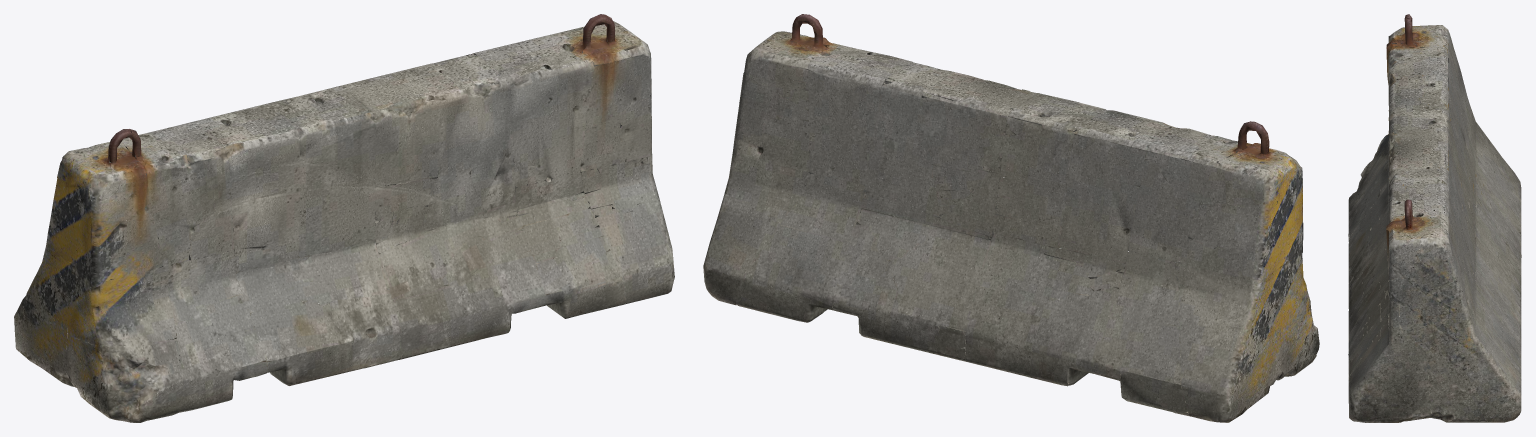
Rendered from prop_barrier.glb.
3 views of the same model, side by side, from view 1: azimuth 30°, elevation 25°; view 2: azimuth 150°, elevation 25°; view 3: azimuth 270°, elevation 25° (orthographic). The views are drawn at different scales.
Parts seen in each view (by area): view 1: prop_barrier; view 2: prop_barrier; view 3: prop_barrier.
Part boxes in pixels (x1=…): prop_barrier: x1=14, y1=14, x2=674, y2=422; prop_barrier: x1=703, y1=14, x2=1319, y2=422; prop_barrier: x1=1348, y1=14, x2=1521, y2=422.
Size of the model in its own units: 2 by 0.8995 by 0.6732.
Materials: 1 (1 with a texture image).
